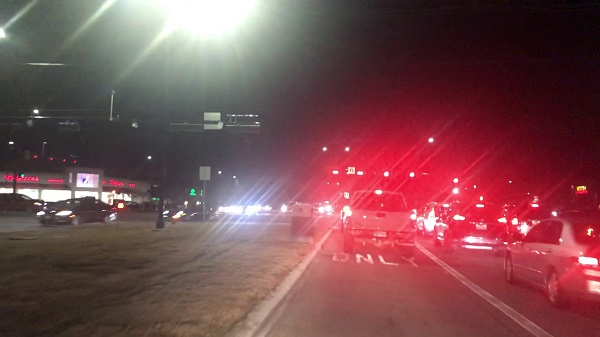car: (501, 213, 600, 304), (432, 208, 507, 253), (37, 197, 118, 226), (164, 202, 216, 223), (418, 204, 447, 234)
truck: (339, 191, 417, 251)
